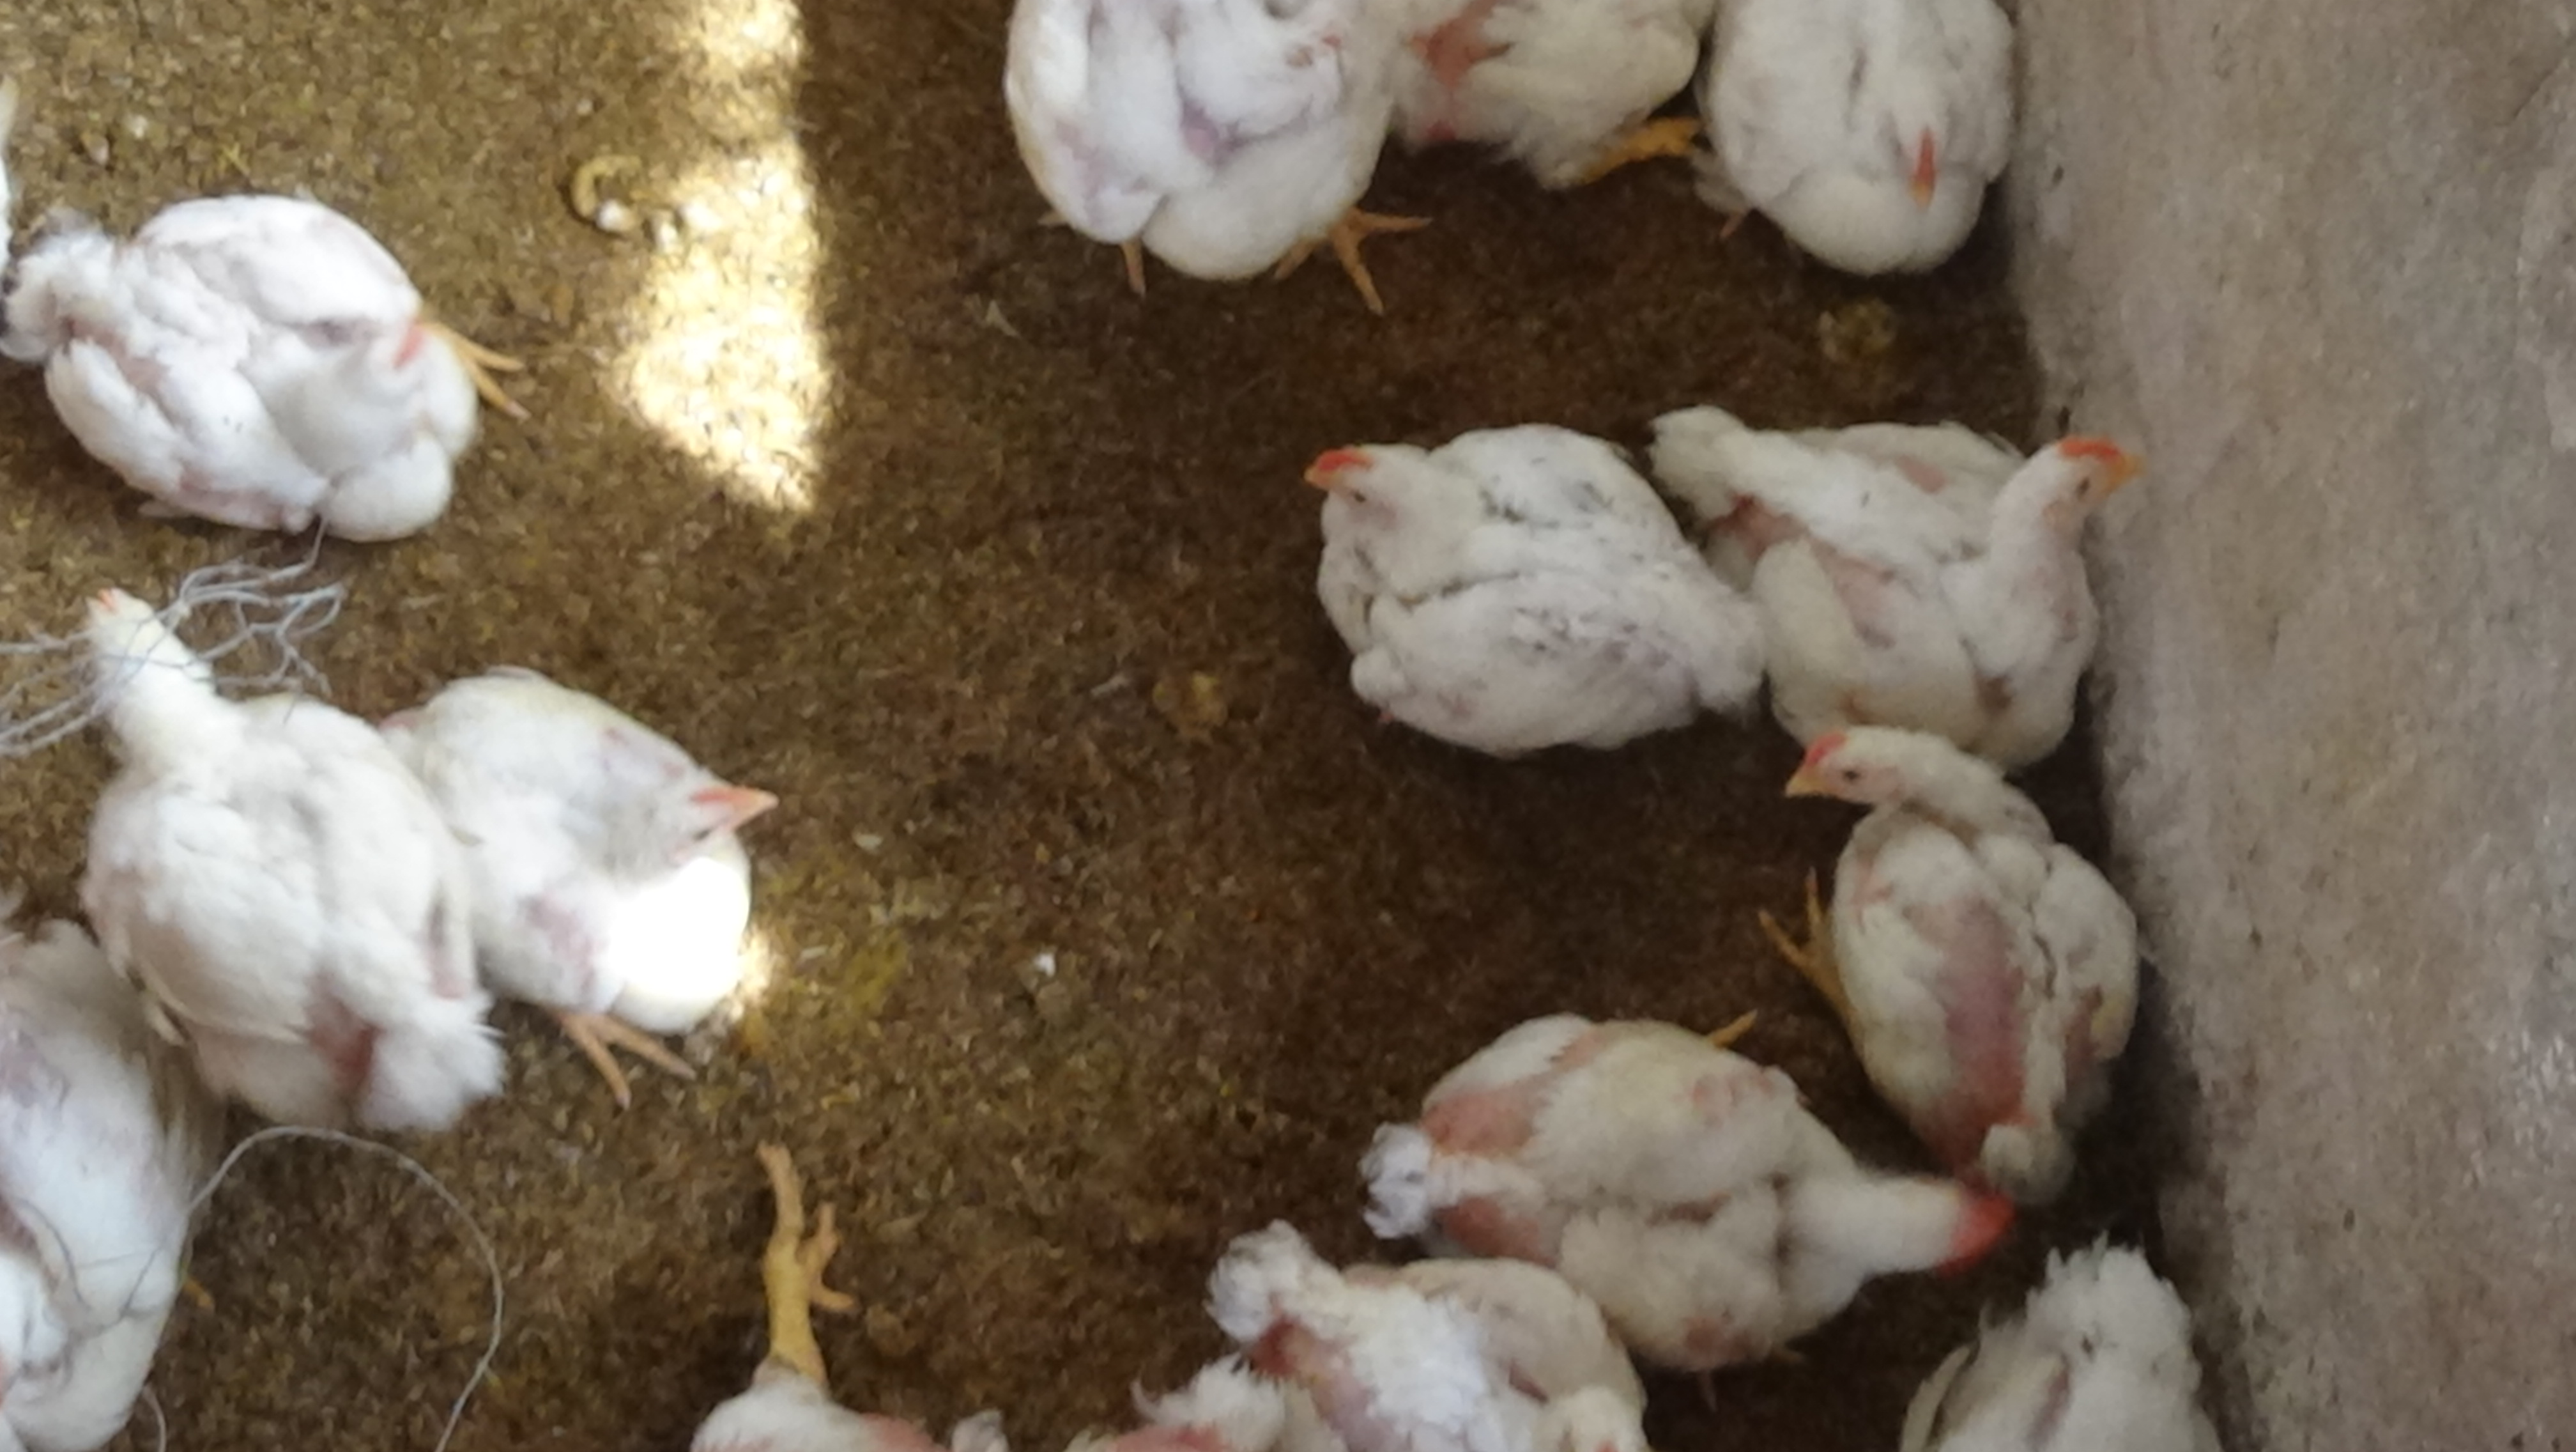Pollos: (37, 549, 511, 1133), (1343, 985, 1985, 1351), (16, 152, 536, 556), (398, 613, 812, 1105), (1787, 692, 2160, 1218), (1638, 388, 2173, 754), (1277, 397, 1769, 763), (991, 0, 1410, 301), (1322, 0, 1732, 237), (1690, 2, 2036, 276)
